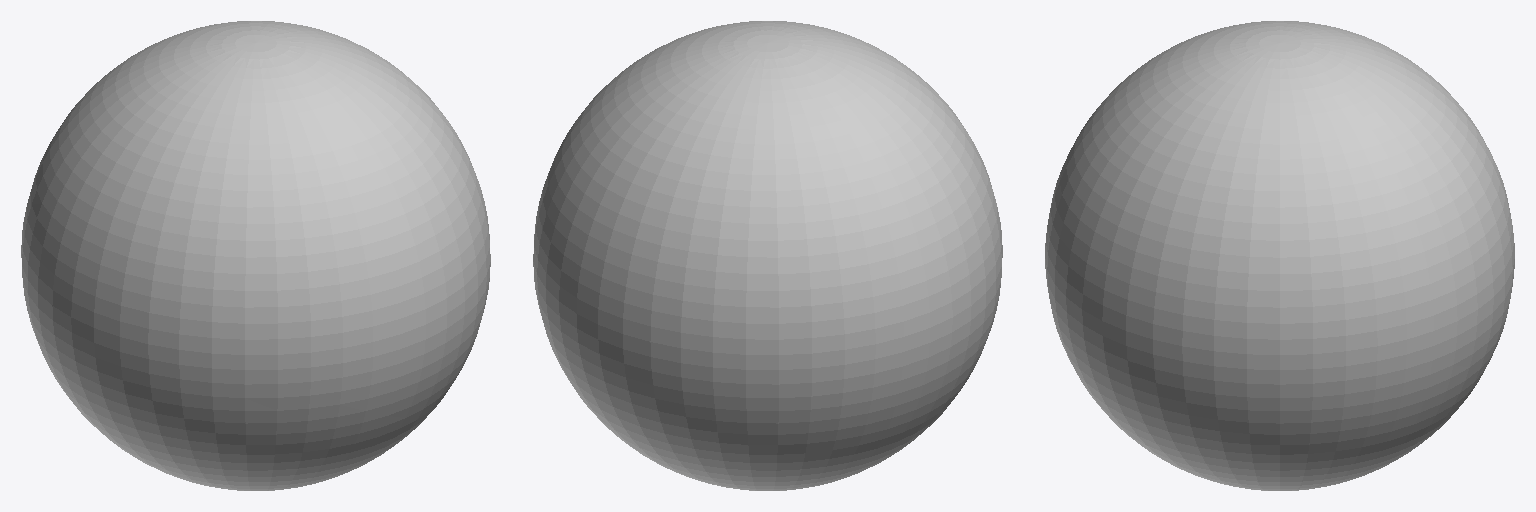
The model's file is sun.obj.
3 views of the same model, side by side, from view 1: azimuth 30°, elevation 25°; view 2: azimuth 150°, elevation 25°; view 3: azimuth 270°, elevation 25° (orthographic).
Visible parts, largest first — view 1: Sun; view 2: Sun; view 3: Sun.
Boxes of the visible parts, <box> form: Sun: <box>21,21,490,490</box>; Sun: <box>533,21,1002,490</box>; Sun: <box>1045,21,1514,490</box>.
Bounding box in the file's own units: 650 × 650 × 650.